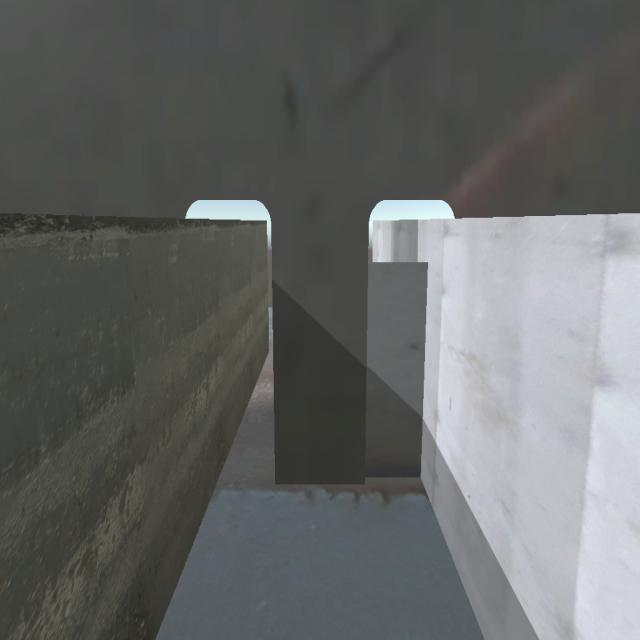fillet_yong_jeop_jang: (270, 476, 430, 498)
longi_yong_jeop_jang: (416, 258, 442, 474)
plate_behind: (368, 258, 423, 479)
